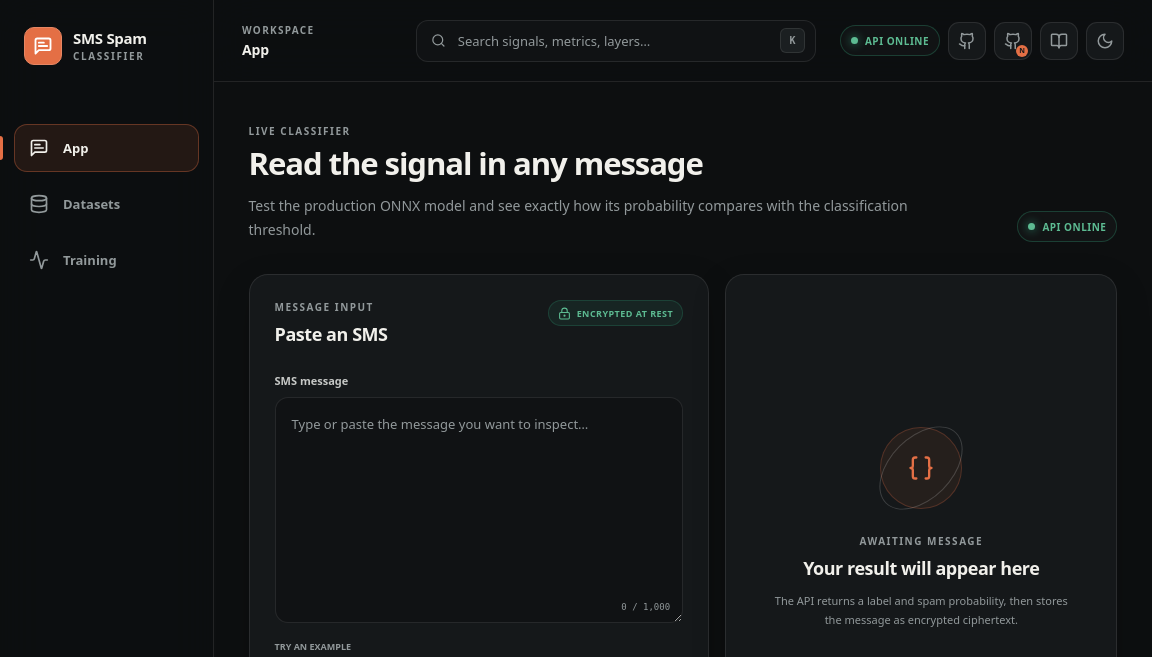
Scenario: prediction workflow › rejects an invalid API response
The width and height of the screenshot is (1152, 657).
Type "Unknown response" into the text box labelled "SMS message" at (479, 510), box [274, 397, 683, 623]
(page scrolled)
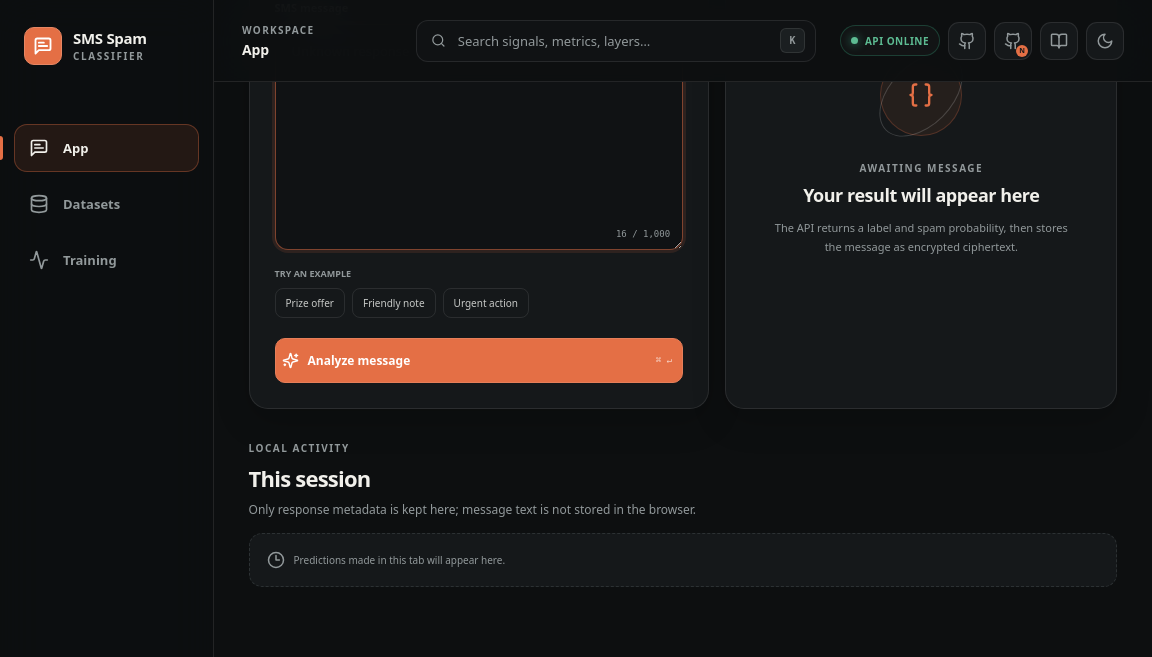
Click the button "Analyze message ⌘ ↵" at (359, 360), box [274, 338, 683, 383]
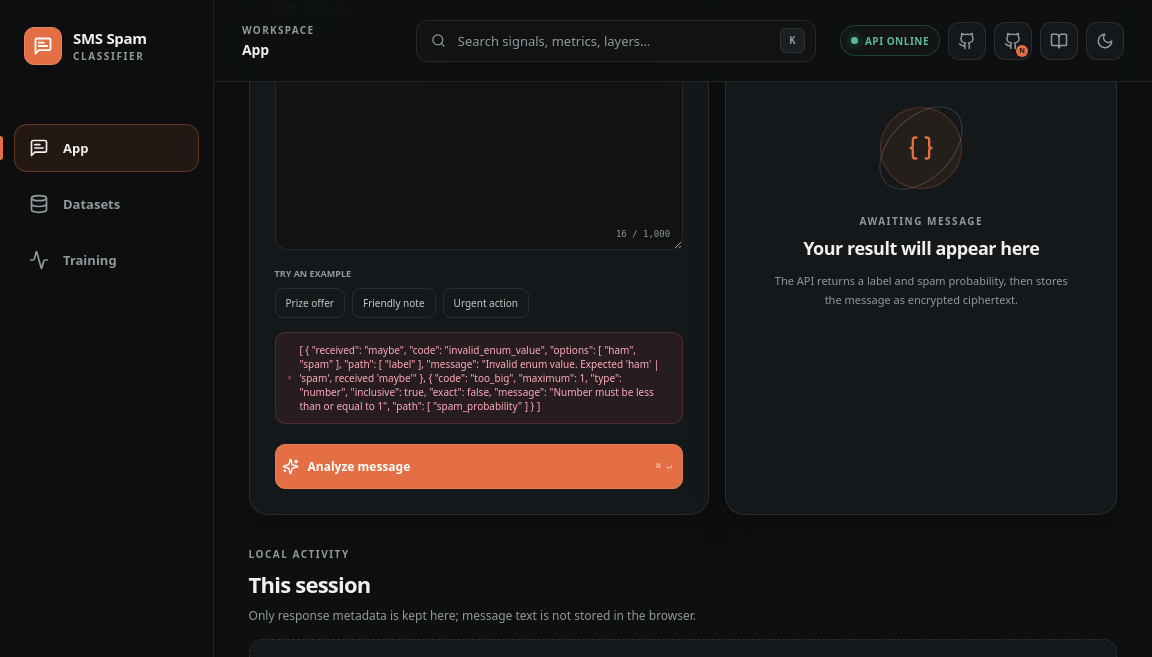
Expected: the message is not empty, [274, 332, 683, 424]
